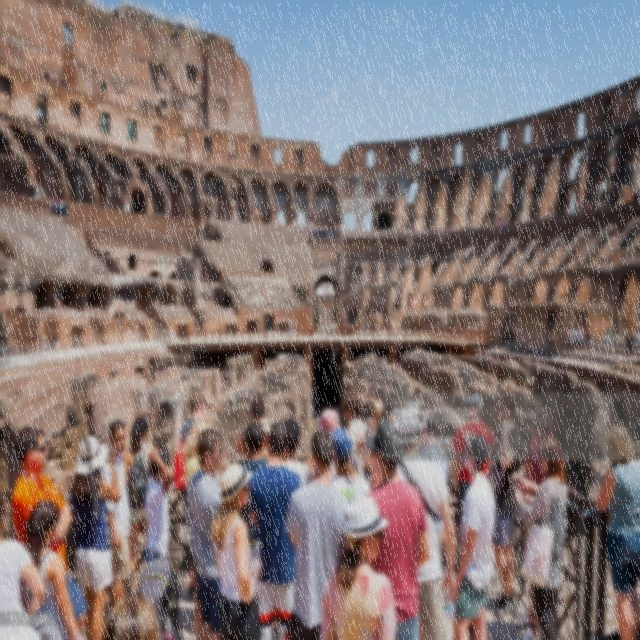pessoa: (8, 425, 88, 639), (364, 418, 434, 640), (283, 428, 352, 639), (395, 403, 456, 640), (503, 436, 569, 639), (246, 421, 304, 638), (512, 407, 566, 639), (318, 496, 398, 640), (70, 434, 121, 640), (594, 422, 640, 639), (208, 460, 263, 639), (187, 427, 232, 639), (450, 428, 494, 639), (19, 499, 82, 639), (485, 390, 523, 613), (0, 494, 48, 640), (418, 414, 449, 638), (98, 416, 132, 616), (121, 415, 158, 594), (451, 393, 494, 525), (144, 444, 174, 624), (235, 393, 298, 474), (239, 421, 273, 555), (174, 414, 198, 600), (330, 426, 373, 507), (100, 589, 162, 639), (341, 388, 371, 481), (183, 414, 218, 492), (348, 428, 382, 496), (412, 216, 507, 240), (564, 188, 640, 218), (280, 417, 312, 487), (180, 390, 212, 448), (361, 394, 392, 430), (312, 402, 342, 428), (307, 222, 341, 244), (31, 194, 68, 214), (566, 324, 578, 354), (632, 322, 640, 358), (192, 220, 208, 236), (626, 328, 634, 357), (586, 326, 592, 356), (578, 324, 584, 353), (288, 318, 294, 342), (605, 330, 611, 348), (606, 324, 612, 342), (332, 320, 337, 338), (329, 321, 333, 338)
